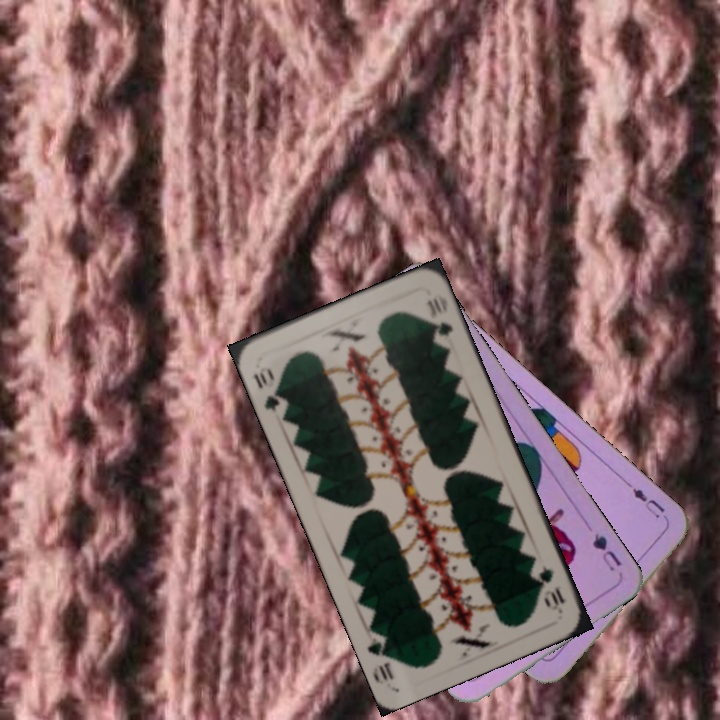EU: (623, 478, 671, 523)
G10: (249, 362, 287, 413), (534, 560, 567, 614)
GU: (588, 529, 624, 574)
